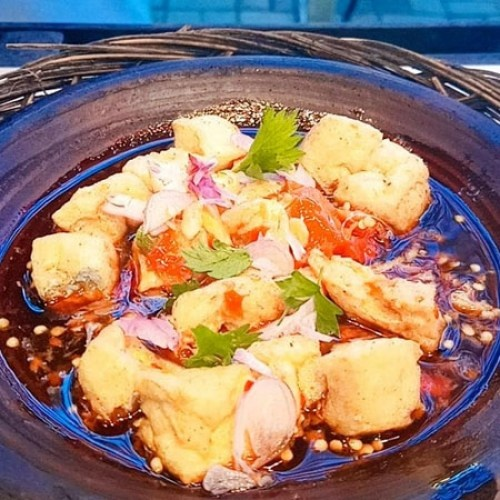tahu_gejrot: (25, 114, 448, 488)
